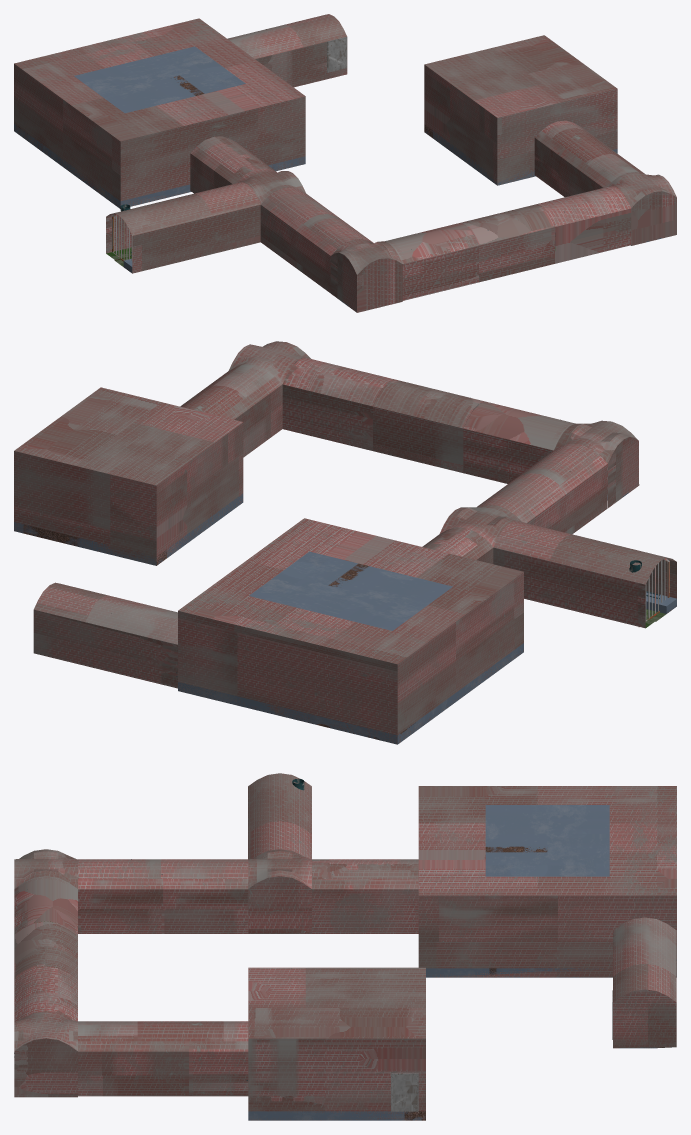
The model's file is room 1 jadi.fbx.
3 renders of one model, top to bottom at view 1: azimuth 30°, elevation 25°; view 2: azimuth 150°, elevation 25°; view 3: azimuth 270°, elevation 25°, orthographic. The views are drawn at different scales.
Visible parts, largest first — view 1: base.001, base, pintu, gerbang; view 2: base.001, base, gerbang; view 3: base.001, base, pintu.001.
Part boxes in pixels (x1,y1,x2,y2): base.001: (14, 14, 676, 312); base: (14, 46, 661, 305); pintu: (327, 36, 346, 72); gerbang: (112, 214, 132, 261); base.001: (14, 341, 676, 744); base: (14, 492, 676, 744); gerbang: (639, 558, 669, 627); base.001: (14, 773, 676, 1120); base: (248, 805, 676, 1120); pintu.001: (391, 1073, 418, 1111).
Bounding box in the file's own units: 103 × 13.76 × 101.
